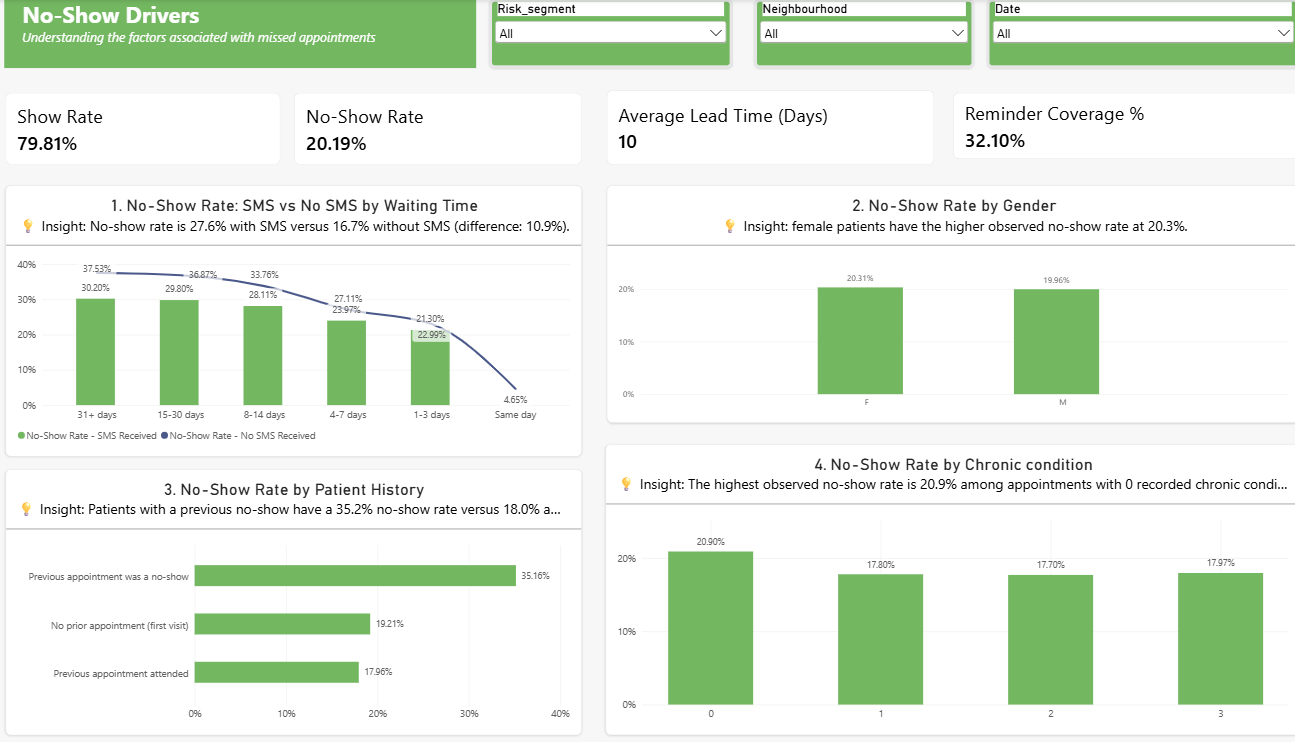

The page's visual inventory and layout, read from the dashboard file:
{"tool":"powerbi","page":{"name":"No-Show Drivers","canvas":[1920,1080],"ordinal":1},"visuals":[{"type":"textbox","box":[9.3,0,683.3,100],"z":0},{"type":"cardVisual","fields":{"Data":["FactAppointments.Show Rate"]},"box":[10,136,398,104],"z":2000},{"type":"cardVisual","fields":{"Data":["FactAppointments.No-Show Rate"]},"box":[428,136,416,104],"z":3000},{"type":"cardVisual","fields":{"Data":["FactAppointments.Average Lead Time (Days)"]},"box":[882,132,474,108],"z":4000},{"type":"cardVisual","fields":{"Data":["FactAppointments.Reminder Coverage %"]},"box":[1382,136,504,96],"z":5000},{"type":"lineClusteredColumnComboChart","title":"1. No-Show Rate: SMS vs No SMS by Waiting Time","fields":{"Category":["FactAppointments.waiting_time_group"],"Y2":["FactAppointments.No-Show Rate - No SMS Received"],"Y":["FactAppointments.No-Show Rate - SMS Received"]},"box":[10.9,269.6,834.3,392.7],"z":6000},{"type":"clusteredBarChart","title":"3. No-Show Rate by Patient History","fields":{"Category":["FactAppointments.Patient History Segment"],"Y":["FactAppointments.No-Show Rate"]},"box":[10.9,680.4,834.3,385.5],"z":7000},{"type":"clusteredColumnChart","title":"2. No-Show Rate by Gender","fields":{"Category":["DimPatient.gender"],"Y":["FactAppointments.No-Show Rate"]},"box":[881.3,269.6,1004.4,343.8],"z":8000},{"type":"clusteredColumnChart","title":"4. No-Show Rate by Chronic condition","fields":{"Category":["FactAppointments.chronic_condition_count"],"Y":["FactAppointments.No-Show Rate"]},"box":[879.5,644.2,1006.2,421.7],"z":9000},{"type":"slicer","fields":{"Values":["DimDate.year_month"]},"box":[1431.5,0,453.7,100],"z":10000},{"type":"slicer","fields":{"Values":["DimLocation.neighbourhood"]},"box":[1094.4,0,318.5,100],"z":11000},{"type":"slicer","fields":{"Values":["FactAppointments.risk_segment"]},"box":[711.1,0,351.9,100],"z":12000}]}

Visuals, with their boxes in screenshot pixels (x1, y1, x2, y2), scaled from the page's 1920x1080 canvas onto the 1295x742 screenshot:
textbox: 6,0,467,69
cardVisual - FactAppointments.Show Rate: 7,93,275,165
cardVisual - FactAppointments.No-Show Rate: 289,93,569,165
cardVisual - FactAppointments.Average Lead Time (Days): 595,91,915,165
cardVisual - FactAppointments.Reminder Coverage %: 932,93,1272,159
"1. No-Show Rate: SMS vs No SMS by Waiting Time" lineClusteredColumnComboChart: 7,185,570,455
"3. No-Show Rate by Patient History" clusteredBarChart: 7,467,570,732
"2. No-Show Rate by Gender" clusteredColumnChart: 594,185,1272,421
"4. No-Show Rate by Chronic condition" clusteredColumnChart: 593,443,1272,732
slicer - DimDate.year_month: 966,0,1272,69
slicer - DimLocation.neighbourhood: 738,0,953,69
slicer - FactAppointments.risk_segment: 480,0,717,69
